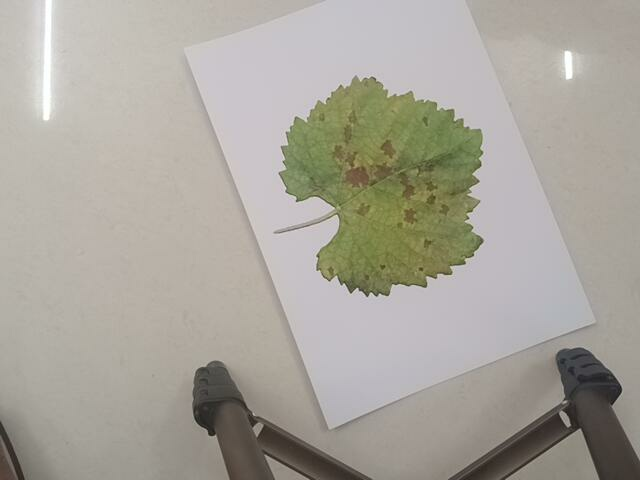Grape_Leaf_Vine_Disease: (263, 93, 500, 297)
